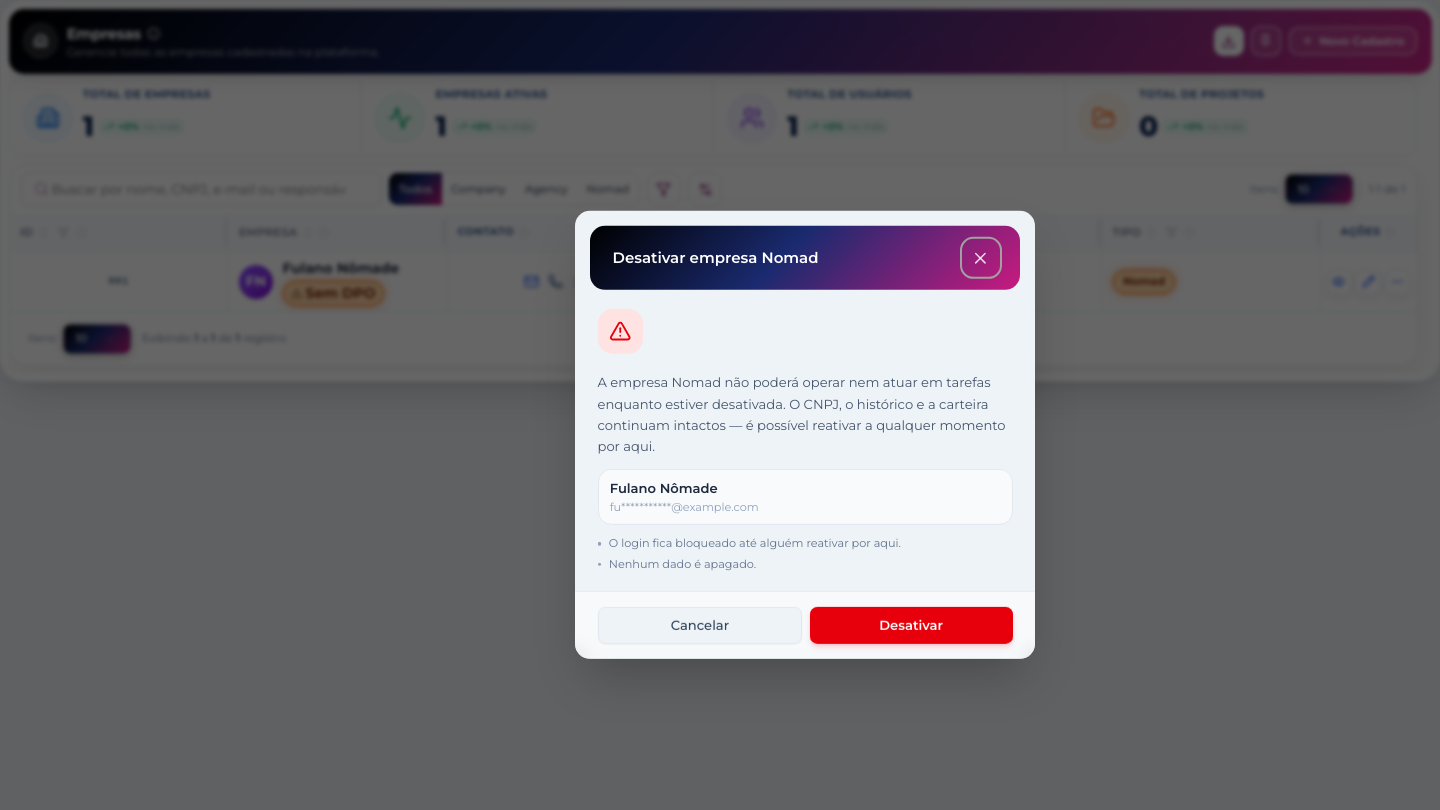
Scenario: admin/empresas — empresa Nomad: desativar/reativar (reversível) › 4/7. confirmar chama a API uma vez com status inativo e atualiza a lista SEM refazer o fetch (evita o recarregamento completo)
This screenshot has width=1440, height=810.
Earlier steps of the test are not shown.
What coordinates should you click on to do the following:
click the button "Desativar"
I would click on:
 (911, 625)
Its box is [810, 607, 1013, 644].
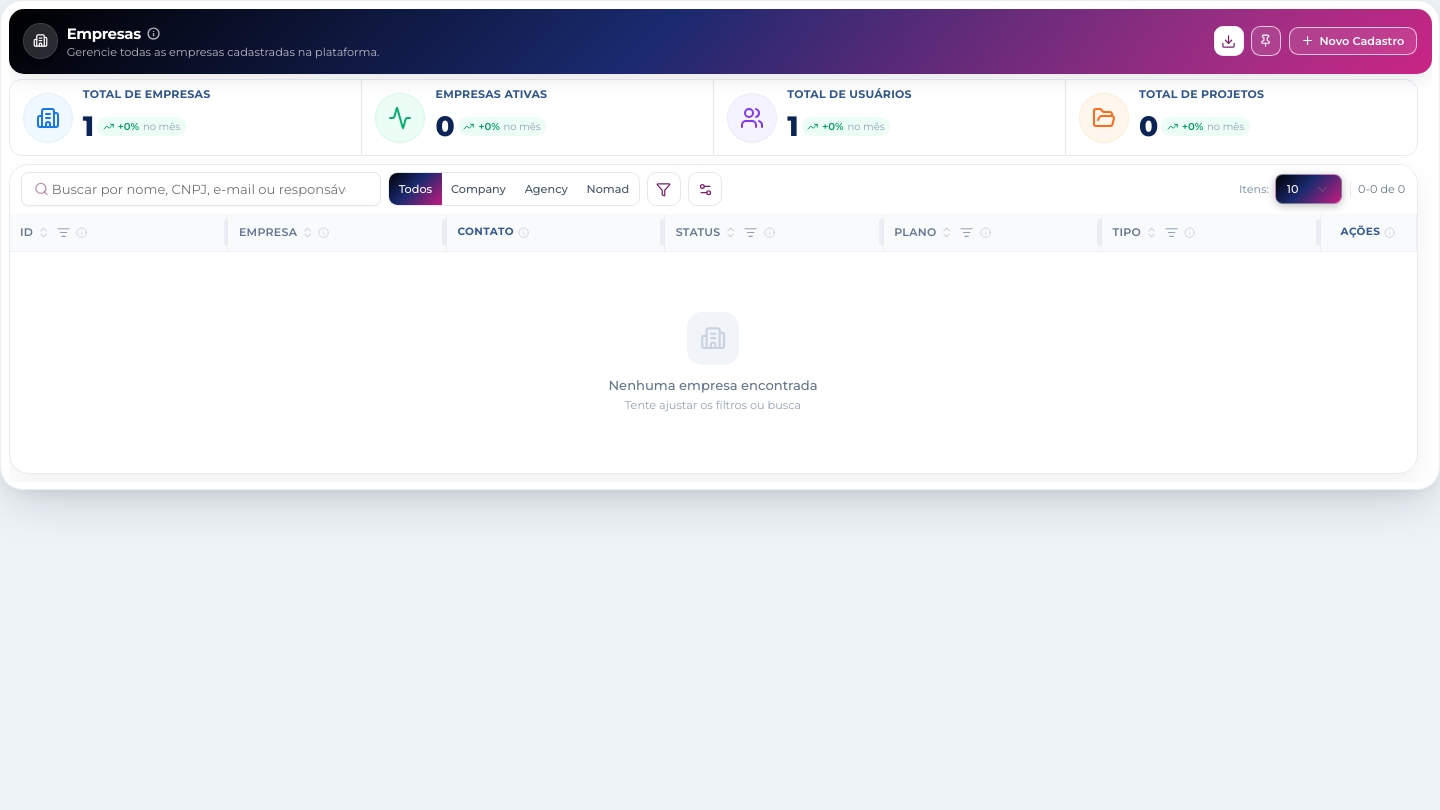
Result: the text "Fulano Nômade" is gone
